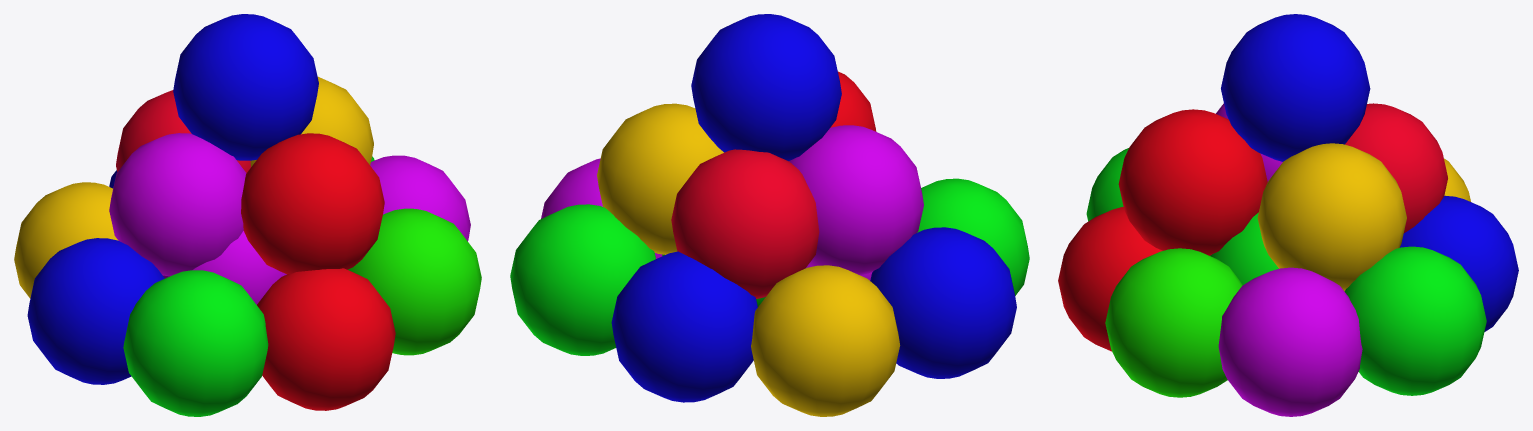
File: JugglingBallsWolfJam2026.fbx
3 views of the same model, side by side, from view 1: azimuth 30°, elevation 25°; view 2: azimuth 150°, elevation 25°; view 3: azimuth 270°, elevation 25° (orthographic). The views are drawn at different scales.
Parts seen in each view (by area): view 1: Sphere.006, Sphere.013, Sphere.009, Sphere.004, Sphere.015, Sphere.002, Sphere.005, Sphere.007, Sphere.003, Sphere.014, Sphere.016, Sphere.011; view 2: Sphere.007, Sphere.009, Sphere.001, Sphere.016, Sphere.002, Sphere.008, Sphere.015, Sphere.014, Sphere.006, Sphere.003, Sphere.013; view 3: Sphere.003, Sphere.009, Sphere.013, Sphere.014, Sphere.008, Sphere.005, Sphere.004, Sphere.001, Sphere.016, Sphere.012, Sphere.006, Sphere.007.
Part boxes in pixels (left/top/right/bottom): Sphere.006: left=123, top=270, right=268, bottom=416; Sphere.013: left=241, top=133, right=384, bottom=274; Sphere.009: left=173, top=14, right=318, bottom=160; Sphere.004: left=257, top=268, right=395, bottom=410; Sphere.015: left=109, top=133, right=246, bottom=276; Sphere.002: left=27, top=238, right=164, bottom=384; Sphere.005: left=348, top=208, right=481, bottom=355; Sphere.007: left=14, top=182, right=118, bottom=298; Sphere.003: left=370, top=155, right=470, bottom=241; Sphere.014: left=250, top=76, right=373, bottom=166; Sphere.016: left=116, top=90, right=250, bottom=172; Sphere.011: left=163, top=231, right=286, bottom=304; Sphere.007: left=751, top=265, right=900, bottom=416; Sphere.009: left=691, top=14, right=841, bottom=161; Sphere.001: left=611, top=251, right=757, bottom=402; Sphere.016: left=671, top=149, right=819, bottom=298; Sphere.002: left=870, top=227, right=1016, bottom=378; Sphere.008: left=510, top=204, right=655, bottom=355; Sphere.015: left=789, top=125, right=923, bottom=275; Sphere.014: left=597, top=103, right=723, bottom=254; Sphere.006: left=917, top=178, right=1029, bottom=295; Sphere.003: left=541, top=158, right=662, bottom=258; Sphere.013: left=830, top=71, right=876, bottom=131; Sphere.003: left=1218, top=267, right=1362, bottom=416; Sphere.009: left=1221, top=14, right=1370, bottom=161; Sphere.013: left=1118, top=109, right=1267, bottom=255; Sphere.014: left=1257, top=143, right=1406, bottom=291; Sphere.008: left=1344, top=246, right=1486, bottom=395; Sphere.005: left=1105, top=248, right=1242, bottom=397; Sphere.004: left=1058, top=207, right=1162, bottom=351; Sphere.001: left=1400, top=195, right=1518, bottom=331; Sphere.016: left=1345, top=103, right=1447, bottom=233; Sphere.012: left=1210, top=212, right=1278, bottom=284; Sphere.006: left=1086, top=148, right=1128, bottom=221; Sphere.007: left=1444, top=158, right=1470, bottom=201.
Size of the model in its own units: 134 by 95.43 by 121.
